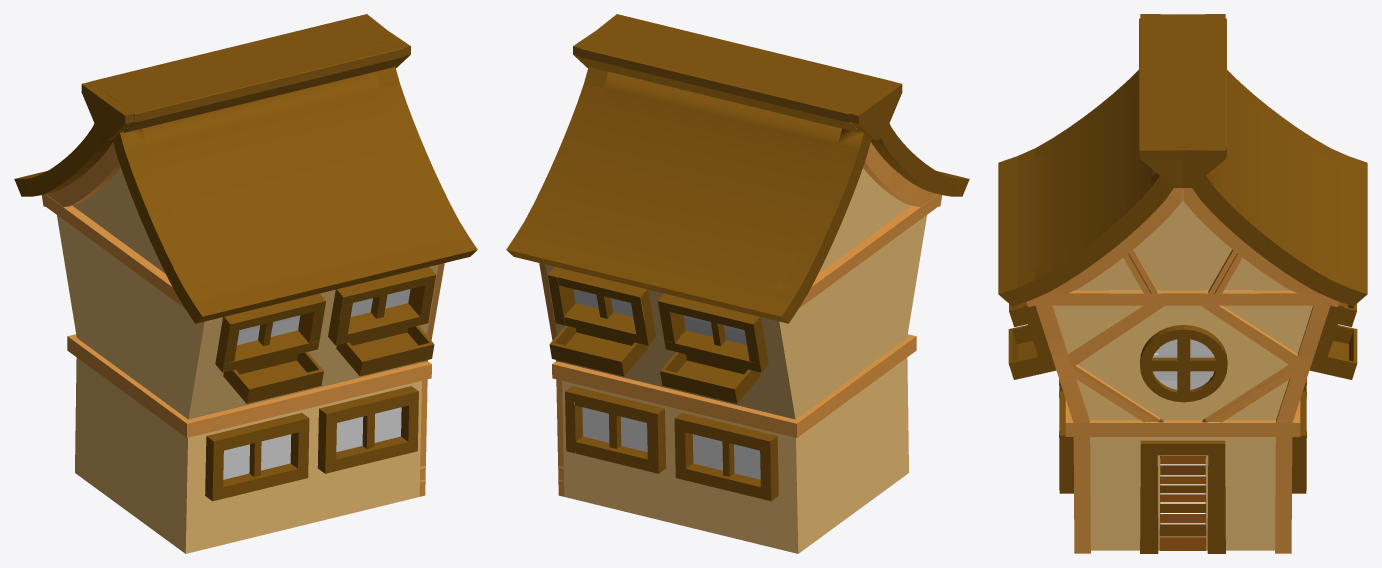
The model's file is building_yellowish.fbx.
3 views of the same model, side by side, from view 1: azimuth 30°, elevation 25°; view 2: azimuth 150°, elevation 25°; view 3: azimuth 270°, elevation 25° (orthographic).
Visible parts, largest first — view 1: Building_Yellowish; view 2: Building_Yellowish; view 3: Building_Yellowish.
Part boxes in pixels (x1,y1,x2,y2): Building_Yellowish: (14,14,477,553); Building_Yellowish: (506,14,969,553); Building_Yellowish: (998,14,1367,553).
Bounding box in the file's own units: 652 × 917 × 744.
